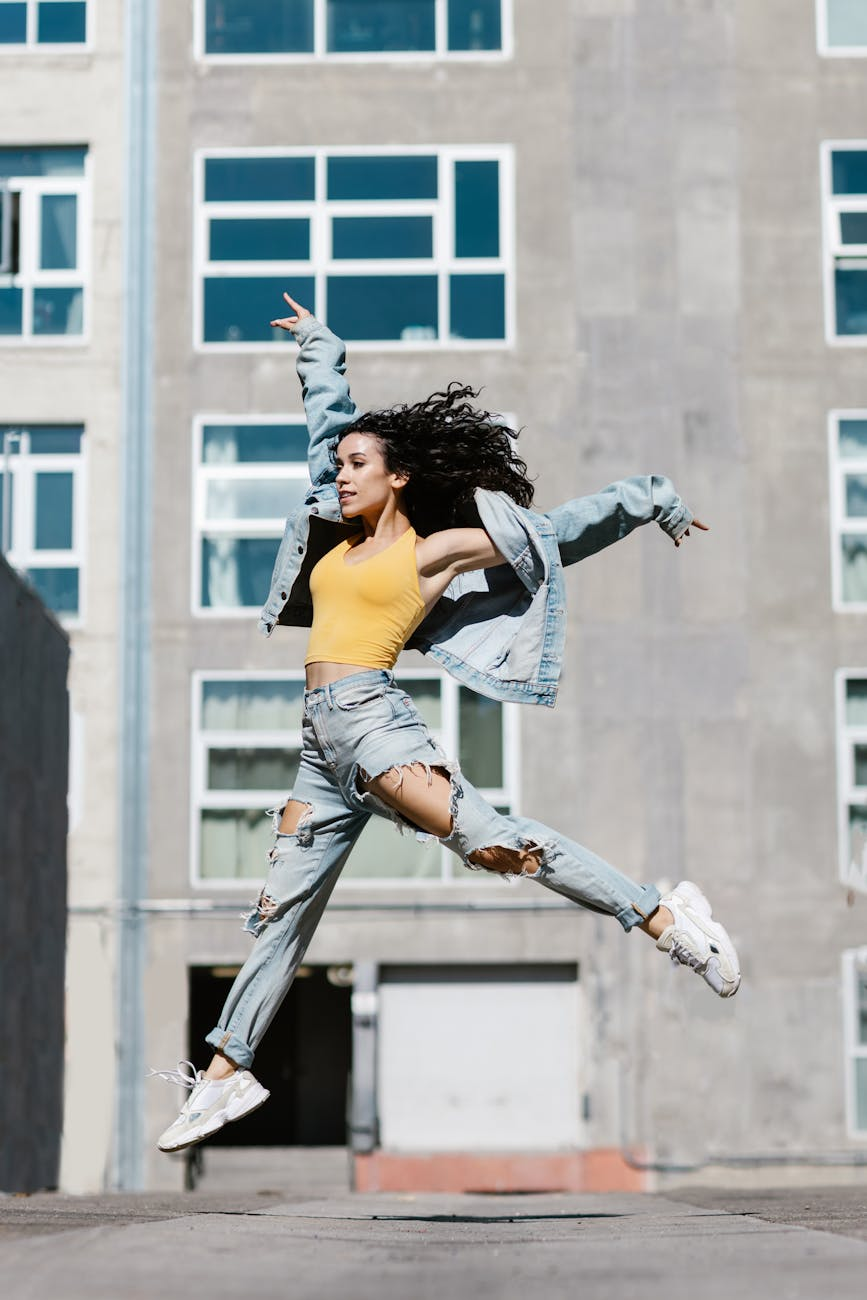crop_top: (275, 513, 457, 666)
ripped_jeans: (218, 672, 618, 1086)
